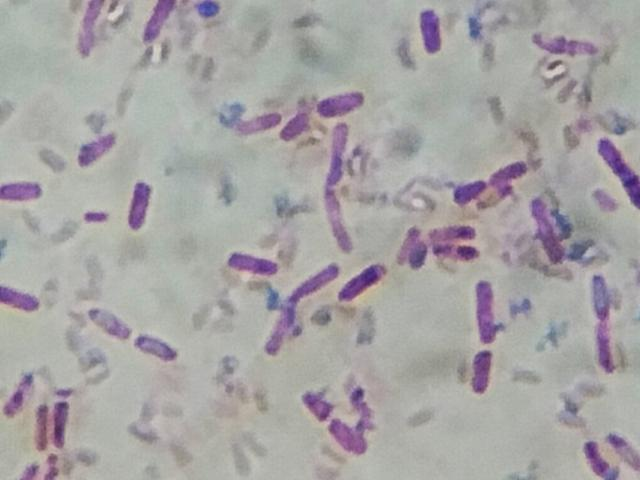E. coli: (301, 382, 376, 461), (595, 130, 640, 210), (522, 193, 565, 273), (535, 22, 610, 61), (325, 186, 359, 257), (339, 265, 390, 309), (255, 305, 297, 358), (226, 240, 279, 281), (288, 262, 341, 299), (602, 422, 640, 473), (126, 175, 155, 237), (473, 275, 500, 341), (2, 275, 46, 314), (86, 303, 129, 342), (5, 169, 49, 207), (231, 106, 282, 138), (462, 347, 494, 397), (145, 0, 178, 46), (81, 2, 108, 57), (486, 153, 532, 185), (6, 366, 32, 422), (79, 129, 118, 165), (596, 325, 621, 381), (425, 216, 477, 242), (415, 3, 442, 53), (321, 85, 368, 113), (138, 330, 176, 363), (579, 439, 610, 479), (589, 266, 612, 319), (29, 396, 50, 454), (331, 125, 351, 183), (51, 396, 72, 451), (281, 110, 312, 143), (430, 241, 478, 262), (408, 236, 430, 274), (458, 176, 486, 202), (398, 219, 413, 263)
